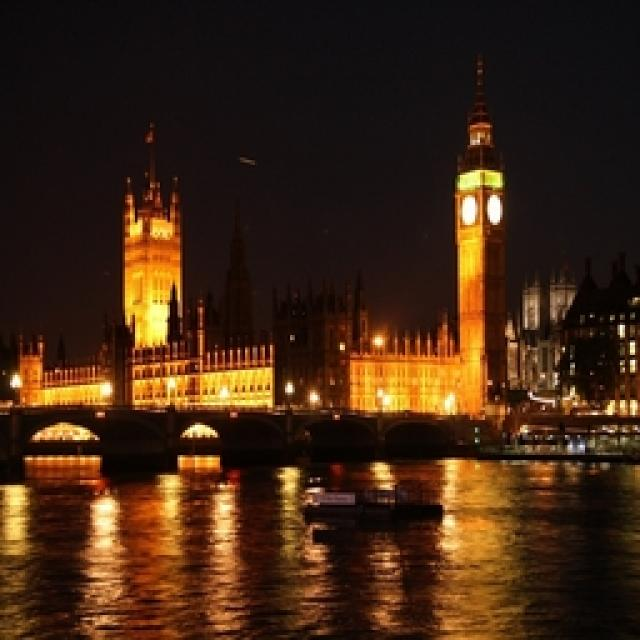Abbey: (20, 154, 527, 410)
